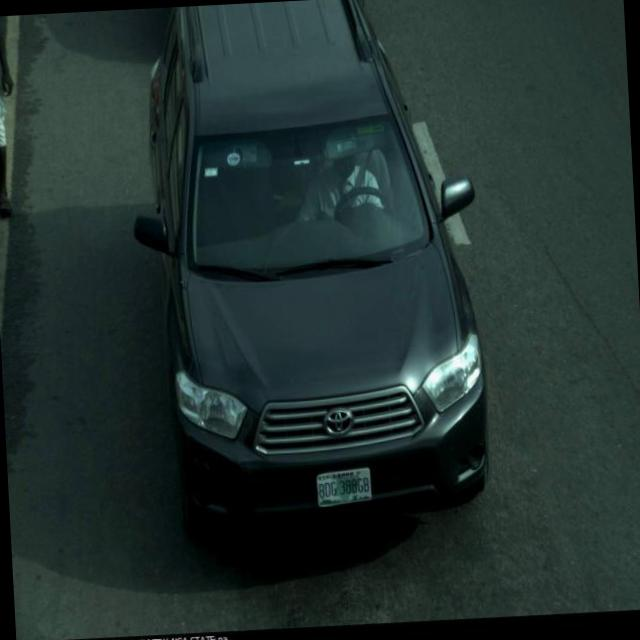person_with_seatbelt: (302, 124, 405, 234)
